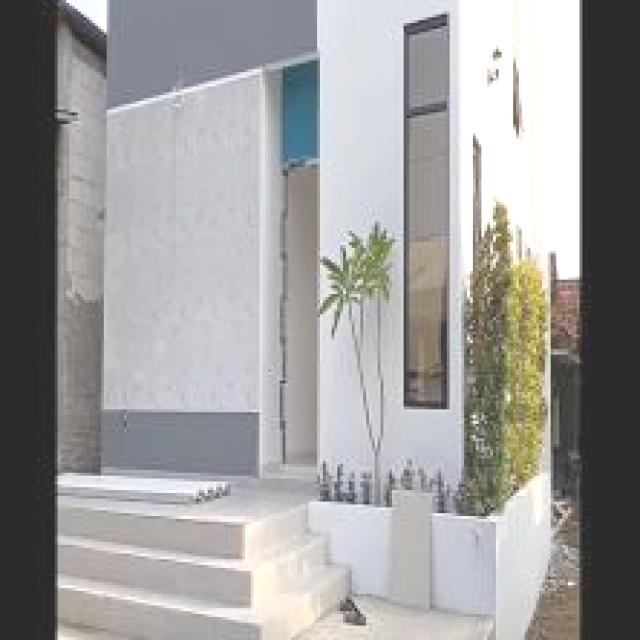upstair: (59, 494, 275, 640)
